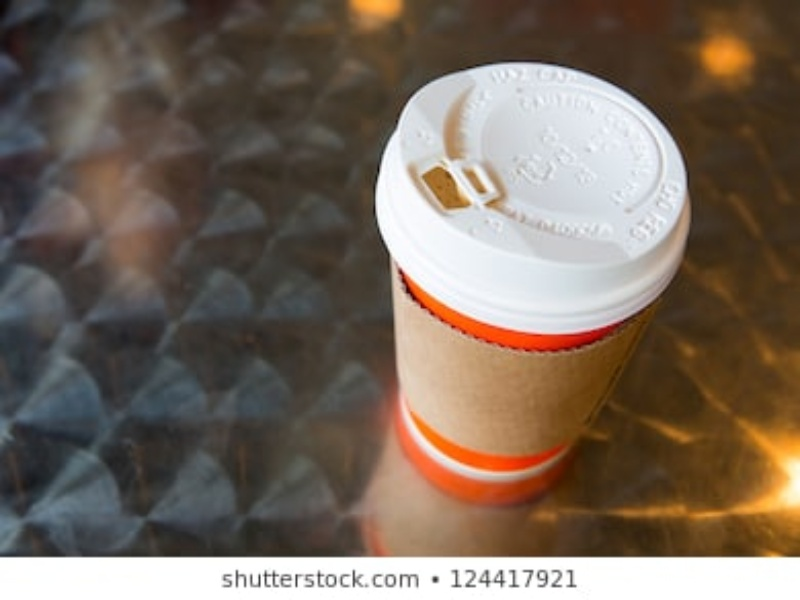coffee-lid: (375, 62, 696, 334)
plastic-cup: (371, 58, 691, 511)
